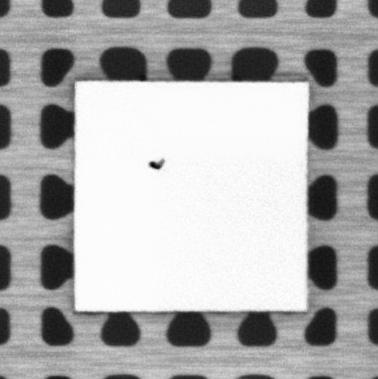DIE_INK: (148, 155, 166, 171)
